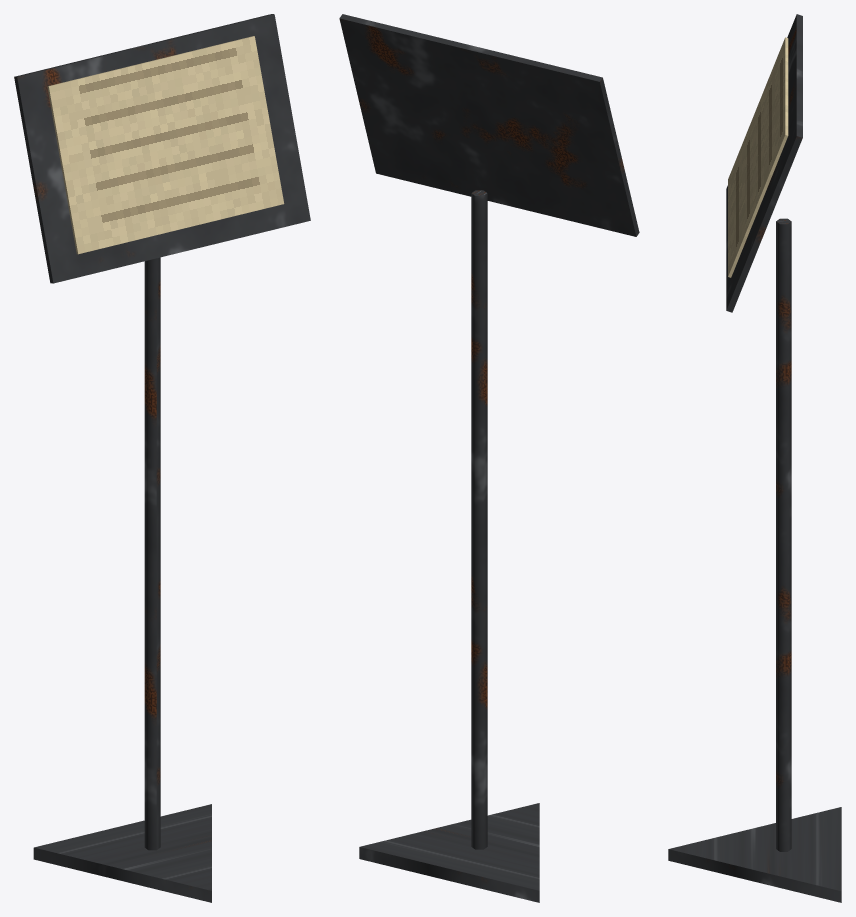
File: musicStand.glb
3 renders of one model, left to right at view 1: azimuth 30°, elevation 25°; view 2: azimuth 150°, elevation 25°; view 3: azimuth 270°, elevation 25°, orthographic. The views are drawn at different scales.
Visible parts, largest first — view 1: musicStand; view 2: musicStand; view 3: musicStand.
Boxes of the visible parts, bbox=[...] form: musicStand: bbox=[14, 14, 310, 902]; musicStand: bbox=[339, 14, 639, 902]; musicStand: bbox=[668, 14, 841, 902].
Bounding box in the file's own units: 0.4503 × 1.35 × 0.2701.
2 materials, 2 textured.
